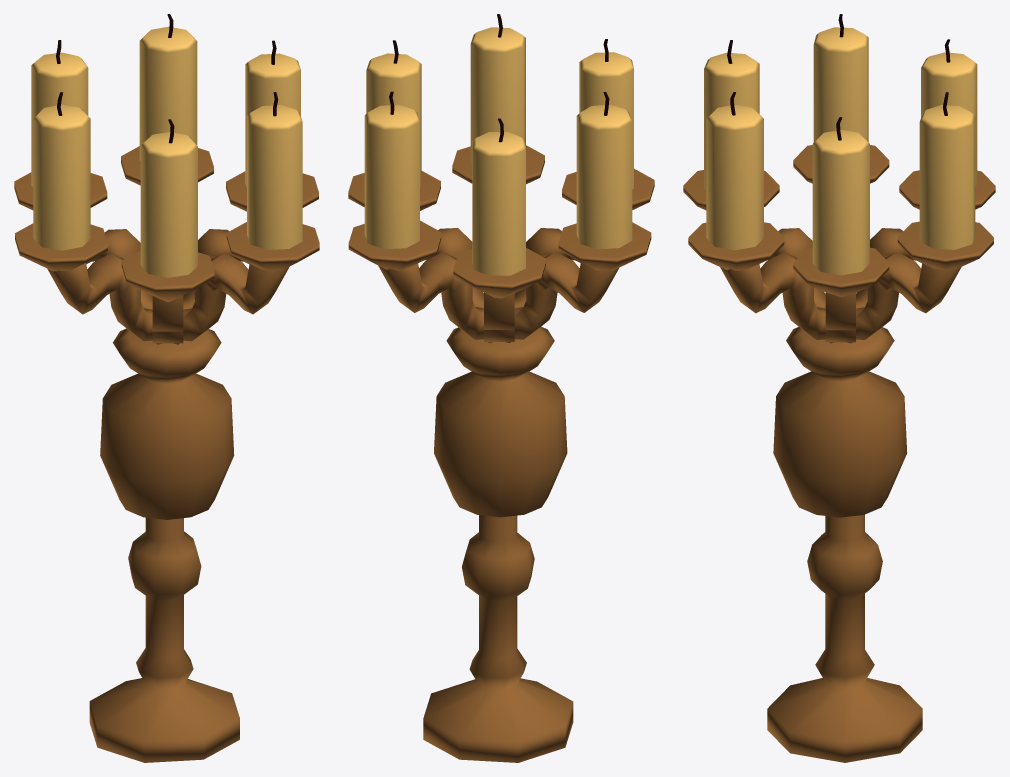
The model's file is SM_Bougie_DecoA.fbx.
3 views of the same model, side by side, from view 1: azimuth 30°, elevation 25°; view 2: azimuth 150°, elevation 25°; view 3: azimuth 270°, elevation 25° (orthographic).
Visible parts, largest first — view 1: pCone8; view 2: pCone8; view 3: pCone8.
Part boxes in pixels (x1=…): pCone8: x1=14, y1=14, x2=319, y2=762; pCone8: x1=348, y1=14, x2=654, y2=762; pCone8: x1=683, y1=14, x2=995, y2=762.
Bounding box in the file's own units: 11.83 × 25.55 × 10.89.
